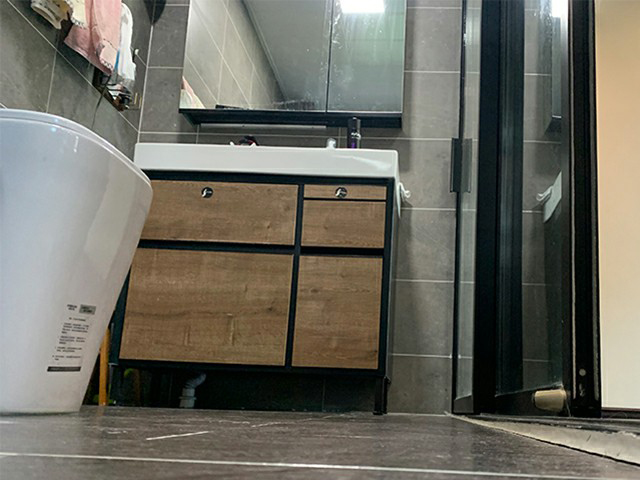cabinet: (117, 141, 401, 417)
closestool: (1, 106, 153, 415)
